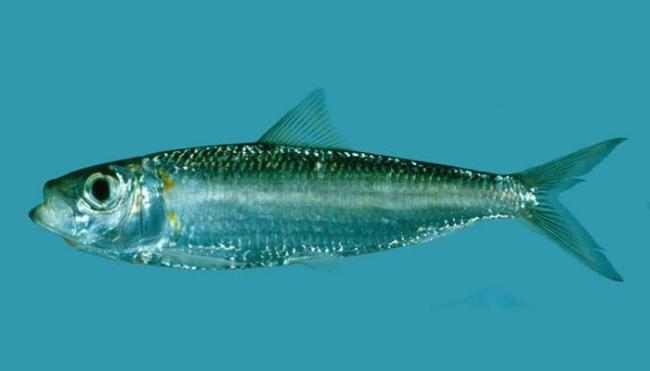fish: (29, 87, 628, 284)
